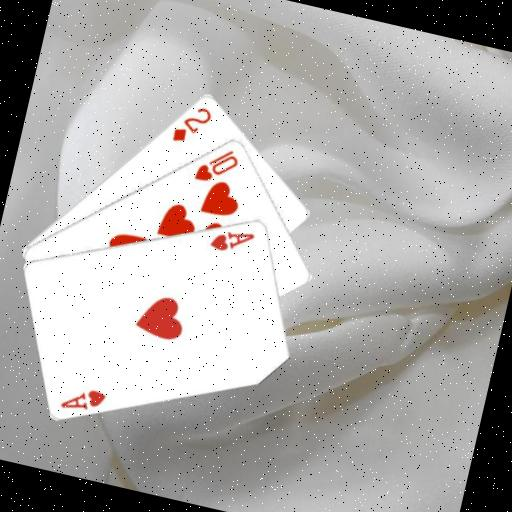10H: (191, 140, 243, 190)
2D: (168, 98, 215, 150)
AH: (57, 379, 110, 419), (206, 221, 258, 259)
